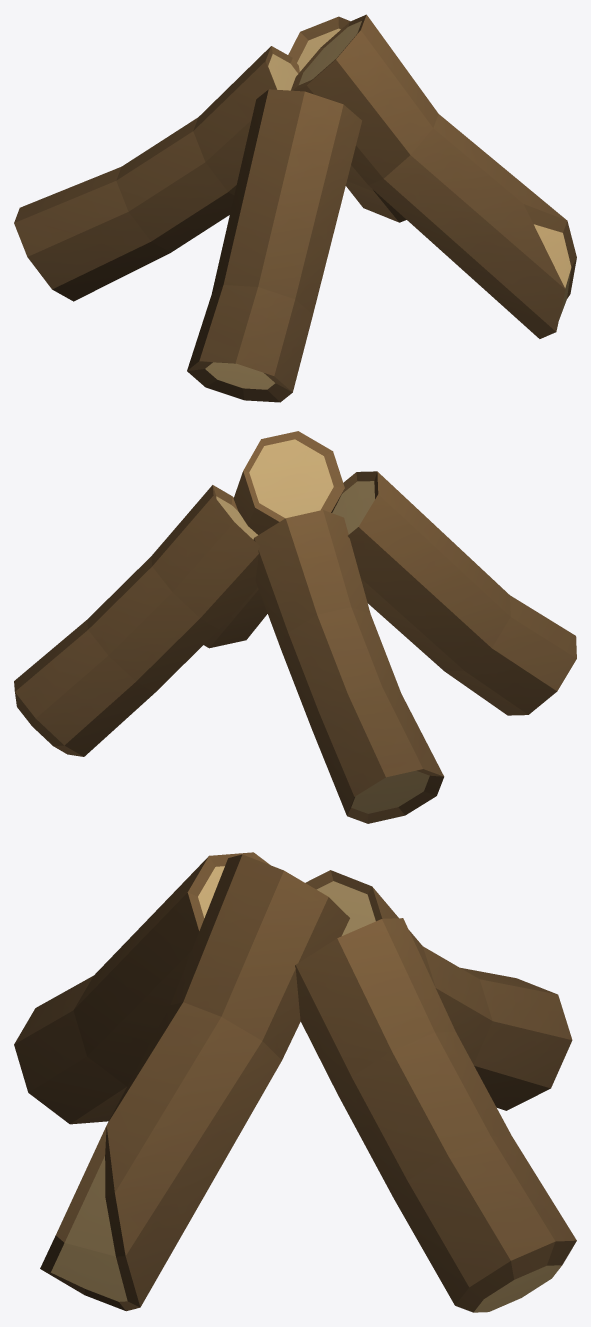
File: Fireplace.fbx
3 renders of one model, top to bottom at view 1: azimuth 30°, elevation 25°; view 2: azimuth 150°, elevation 25°; view 3: azimuth 270°, elevation 25°, orthographic. The views are drawn at different scales.
Visible parts, largest first — view 1: Cylinder.020; view 2: Cylinder.020; view 3: Cylinder.020.
Part boxes in pixels (x1,y1,x2,y2): Cylinder.020: (14,14,576,402); Cylinder.020: (14,431,576,823); Cylinder.020: (14,852,576,1312).
Size of the model in its own units: 175 by 114 by 156.
